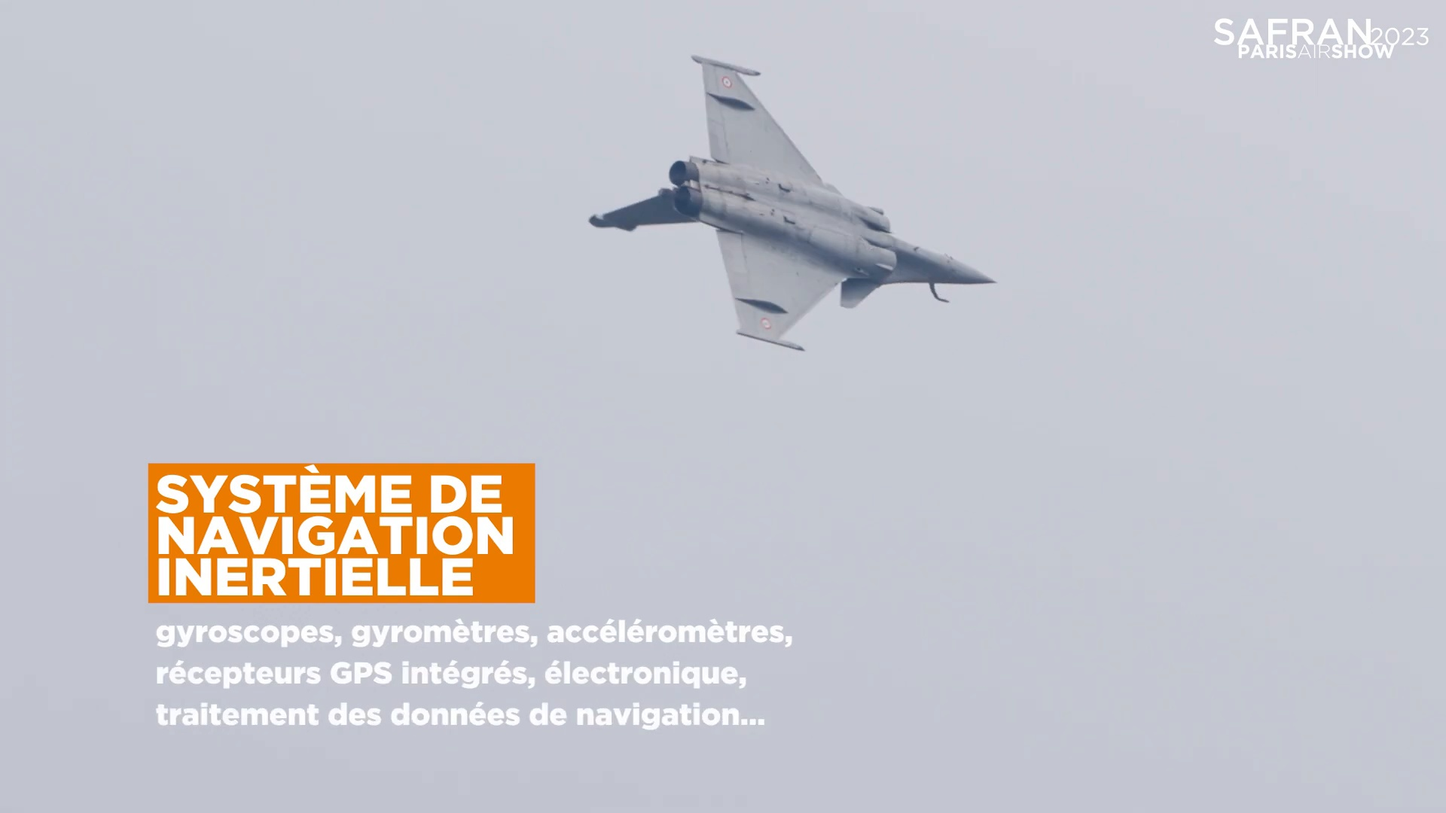Rafale: (586, 46, 1005, 361)
